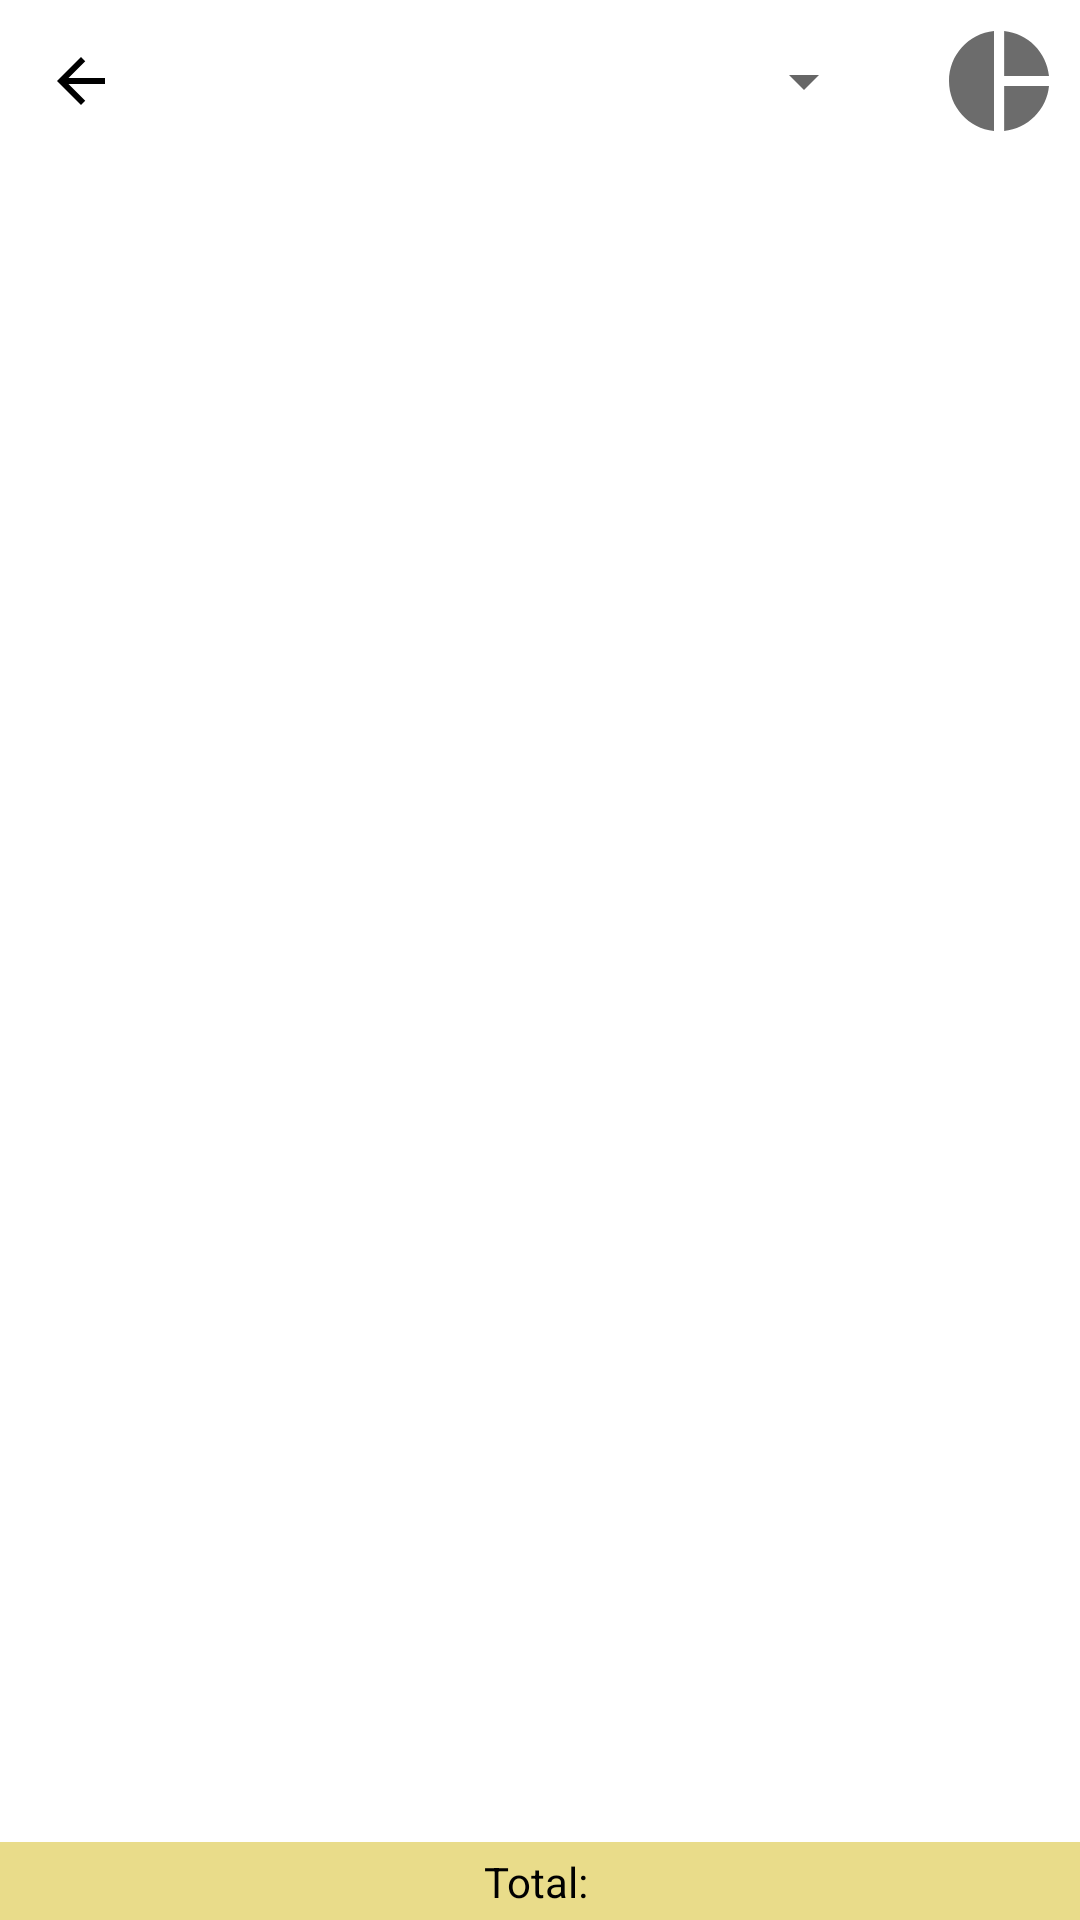

Screen size 1080*1920. Icon name, then its center in pixels as point (x, y):
back: point (81, 81)
pie chart: point (999, 81)
